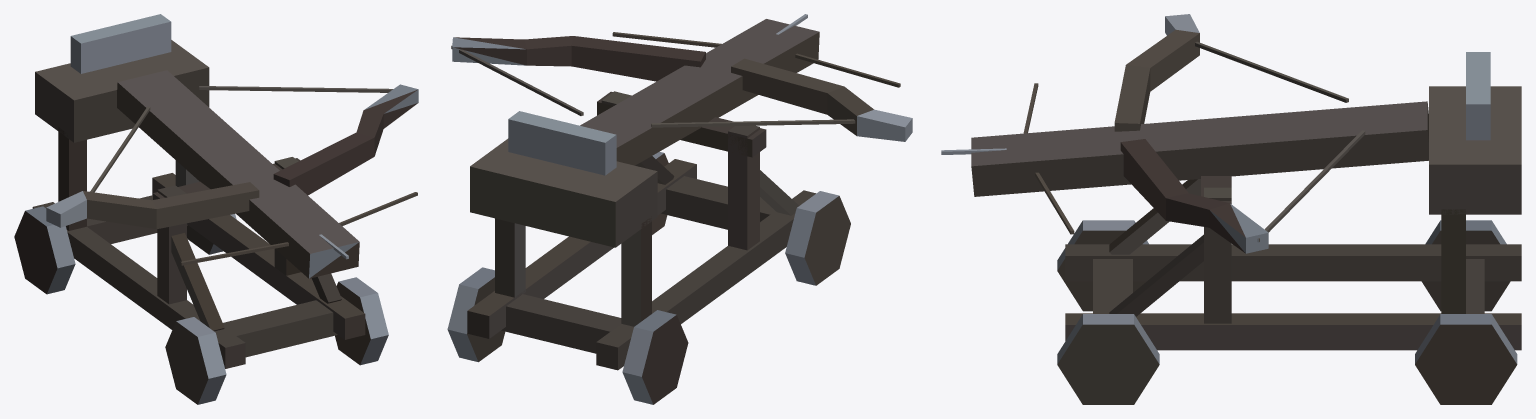
File: ae_scorpion_iron_lod2.glb
3 views of the same model, side by side, from view 1: azimuth 30°, elevation 25°; view 2: azimuth 150°, elevation 25°; view 3: azimuth 270°, elevation 25° (orthographic). The views are drawn at different scales.
Visible parts, largest first — view 1: AE_Forward_PlusZ; view 2: AE_Forward_PlusZ; view 3: AE_Forward_PlusZ.
Part boxes in pixels (x1,y1,x2,y2): AE_Forward_PlusZ: (14,14,418,404); AE_Forward_PlusZ: (447,14,912,404); AE_Forward_PlusZ: (941,14,1521,404).
Size of the model in its own units: 1.76 by 0.983 by 1.88.
Materials: 2 (2 with a texture image).
